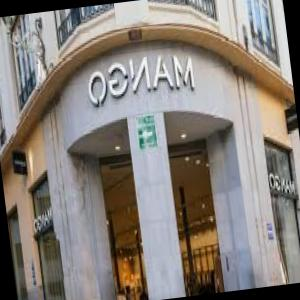mango: (83, 48, 203, 110), (265, 175, 300, 199), (33, 205, 53, 232)
